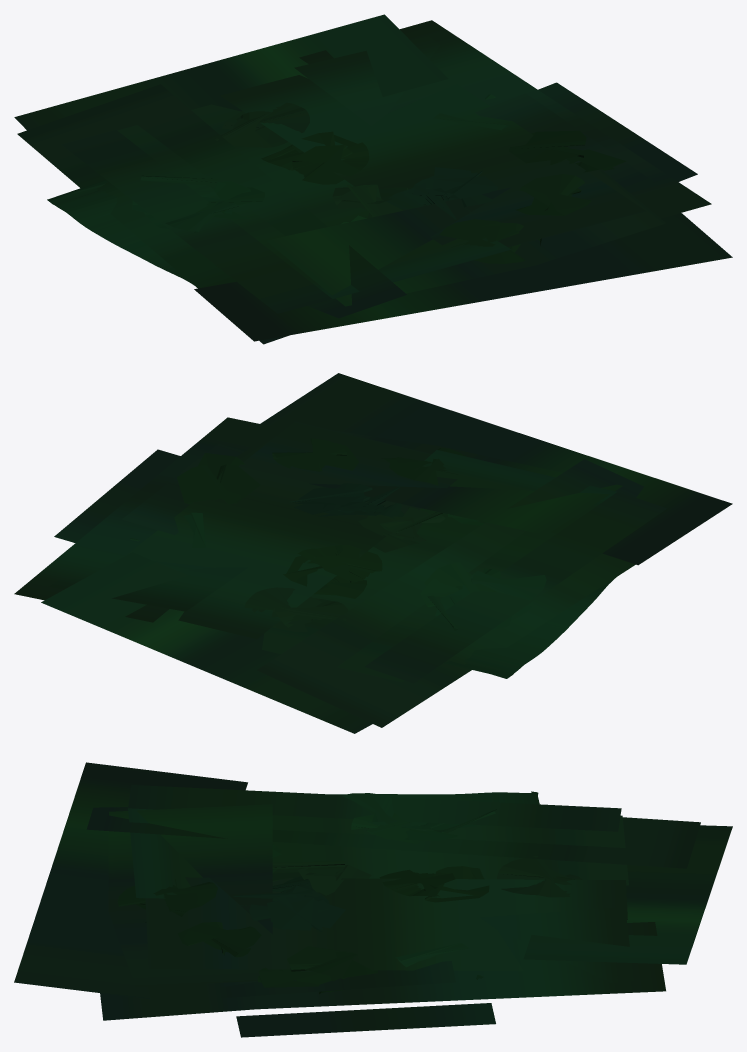
3 views of the same model, one above another, from view 1: azimuth 30°, elevation 25°; view 2: azimuth 150°, elevation 25°; view 3: azimuth 270°, elevation 25° (orthographic). The views are drawn at different scales.
Visible parts, largest first — view 1: Patch002; view 2: Patch002; view 3: Patch002.
Part boxes in pixels (<box>): Patch002: <box>14,14,732,344</box>; Patch002: <box>14,373,732,733</box>; Patch002: <box>14,762,732,1037</box>.
Size of the model in its own units: 1.36 by 0.1003 by 1.59.
